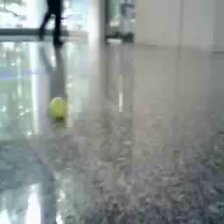tennis: (49, 96, 66, 118)
